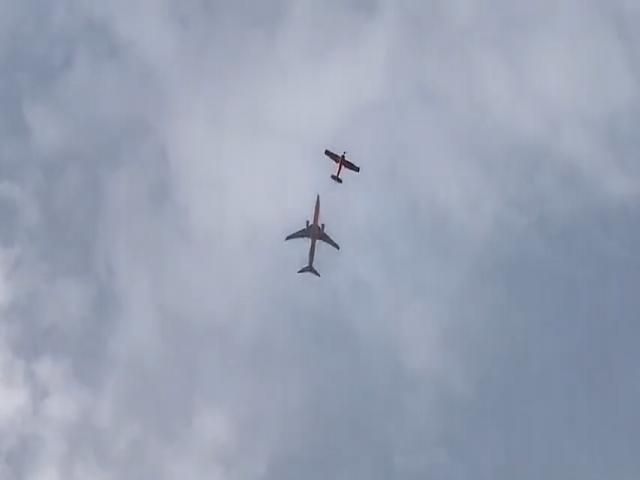plane: (286, 195, 340, 277), (325, 149, 358, 184)
